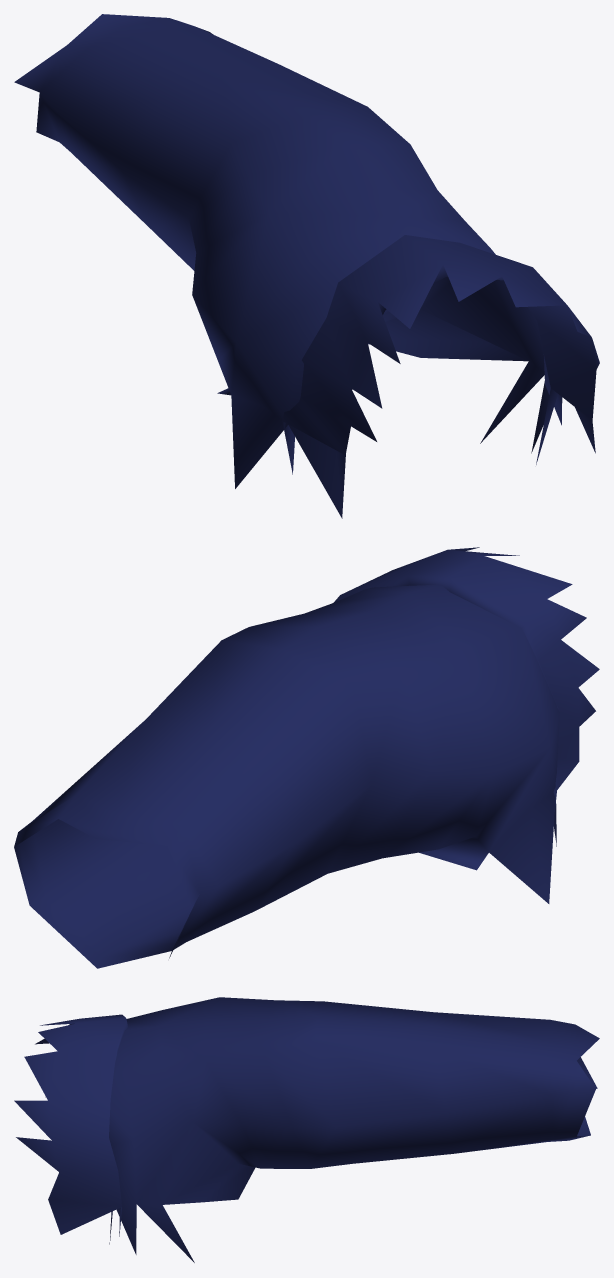
The model's file is thigh_l.obj.
3 views of the same model, one above another, from view 1: azimuth 30°, elevation 25°; view 2: azimuth 150°, elevation 25°; view 3: azimuth 270°, elevation 25° (orthographic). The views are drawn at different scales.
Bounding box in the file's own units: 0.2567 × 0.25 × 0.6178.
